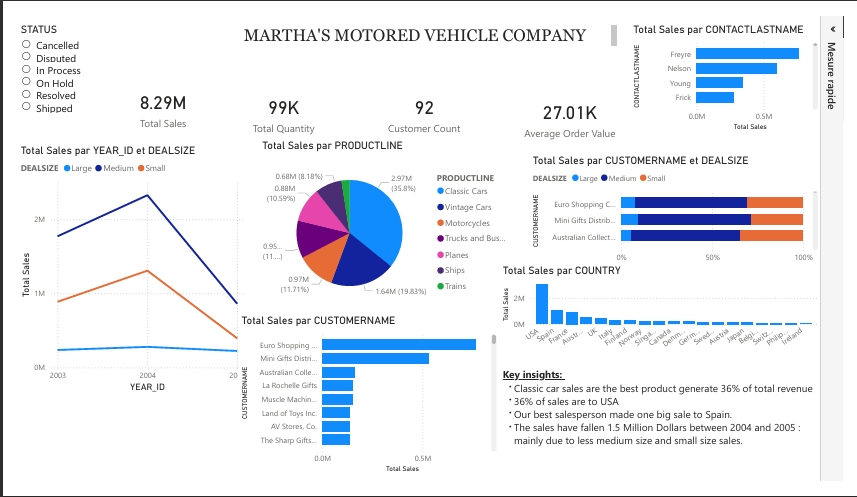

What the dashboard file says about the page in this screenshot:
{"tool":"powerbi","page":{"name":"Page 1","canvas":[1280,720],"ordinal":0},"visuals":[{"type":"card","fields":{"Values":["Sales.Average Order Value"]},"box":[768,96,224,112],"z":0},{"type":"card","fields":{"Values":["Sales.Customer Count"]},"box":[528,96,240,96],"z":1000},{"type":"card","fields":{"Values":["Sales.Total Quantity"]},"box":[320,96,208,96],"z":2000},{"type":"card","fields":{"Values":["Sales.Total Sales"]},"box":[144,80,176,112],"z":3000},{"type":"lineChart","fields":{"Category":["Sales.YEAR_ID"],"Y":["Sales.Total Sales"],"Series":["Sales.DEALSIZE"]},"box":[0,192,368,400],"z":4000},{"type":"pieChart","fields":{"Category":["Sales.PRODUCTLINE"],"Y":["Sales.Total Sales"]},"box":[385,185,408.3,280],"z":5000},{"type":"barChart","fields":{"Category":["Sales.CONTACTLASTNAME"],"Y":["Sales.Total Sales"]},"box":[992,0,288,176],"z":6000},{"type":"barChart","fields":{"Category":["Sales.CUSTOMERNAME"],"Y":["Sales.Total Sales"]},"box":[352,464,416,256],"z":7000},{"type":"hundredPercentStackedBarChart","fields":{"Category":["Sales.CUSTOMERNAME"],"Series":["Sales.DEALSIZE"],"Y":["Sales.Total Sales"]},"box":[816,208,464,192],"z":8000},{"type":"columnChart","fields":{"Category":["Sales.COUNTRY"],"Y":["Sales.Total Sales"]},"box":[816,384,464,192],"z":9000},{"type":"listSlicer","fields":{"Values":["Sales.STATUS"]},"box":[0,0,128,256],"z":10000},{"type":"textbox","box":[208,0,816,64],"z":10002},{"type":"textbox","box":[768,560,512,160],"z":10003}]}

Visuals, with their boxes on the page's 1280x720 design canvas (x1, y1, x2, y2). These are canvas units, not pixel positions in the 857x497 screenshot, which may show the page scaled, cropped or inside an application window:
card - Sales.Average Order Value: <box>768,96,992,208</box>
card - Sales.Customer Count: <box>528,96,768,192</box>
card - Sales.Total Quantity: <box>320,96,528,192</box>
card - Sales.Total Sales: <box>144,80,320,192</box>
lineChart - Sales.YEAR_ID x Sales.Total Sales: <box>0,192,368,592</box>
pieChart - Sales.PRODUCTLINE x Sales.Total Sales: <box>385,185,793,465</box>
barChart - Sales.CONTACTLASTNAME x Sales.Total Sales: <box>992,0,1280,176</box>
barChart - Sales.CUSTOMERNAME x Sales.Total Sales: <box>352,464,768,720</box>
hundredPercentStackedBarChart - Sales.CUSTOMERNAME x Sales.DEALSIZE: <box>816,208,1280,400</box>
columnChart - Sales.COUNTRY x Sales.Total Sales: <box>816,384,1280,576</box>
listSlicer - Sales.STATUS: <box>0,0,128,256</box>
textbox: <box>208,0,1024,64</box>
textbox: <box>768,560,1280,720</box>
